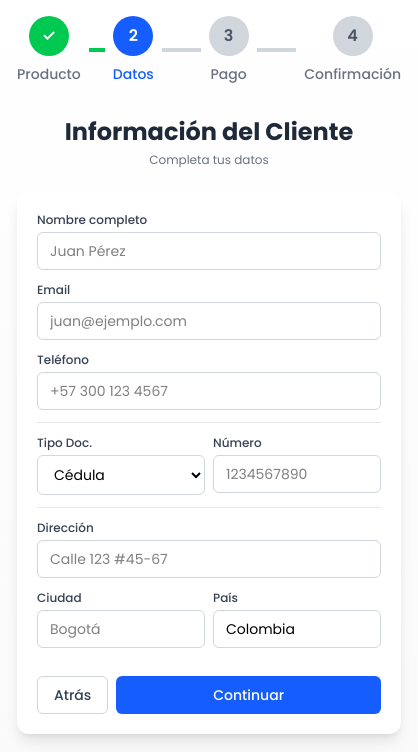
Scenario: CustomerInfoPage › should show validation error when submitting empty form
Click the button "Continuar" at (249,695), box [116,676,381,714]
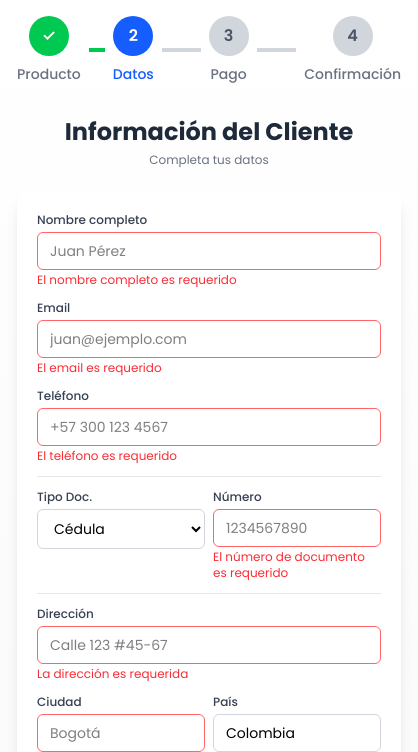
Expected: the text "El nombre completo es requerido" is shown, [37,271,237,288]
Expected: the text "El email es requerido" is shown, [37,359,162,376]
Expected: the text "El teléfono es requerido" is shown, [37,447,177,464]
